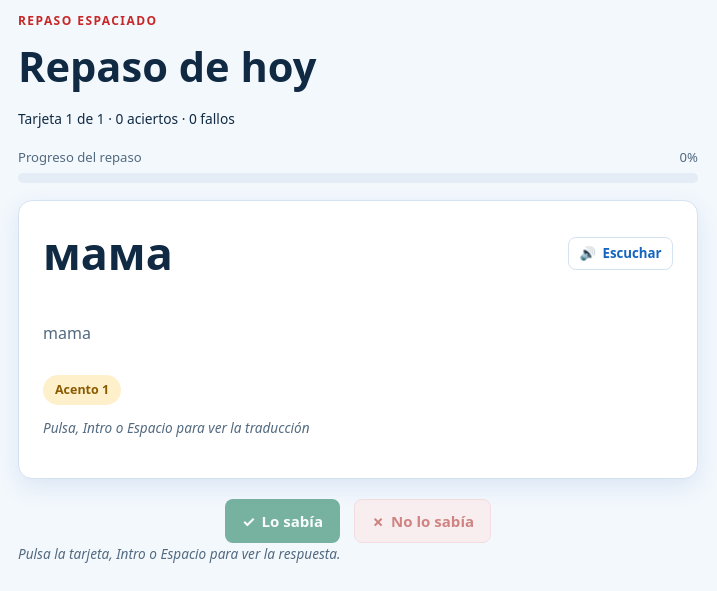
Scenario: Tarjeta de repaso › se voltea con el teclado y envía la respuesta a la API
Expected: the text "mamá" is not shown
Press Enter in the button with aria-label "tarjeta: мама", box [18,200,698,479]
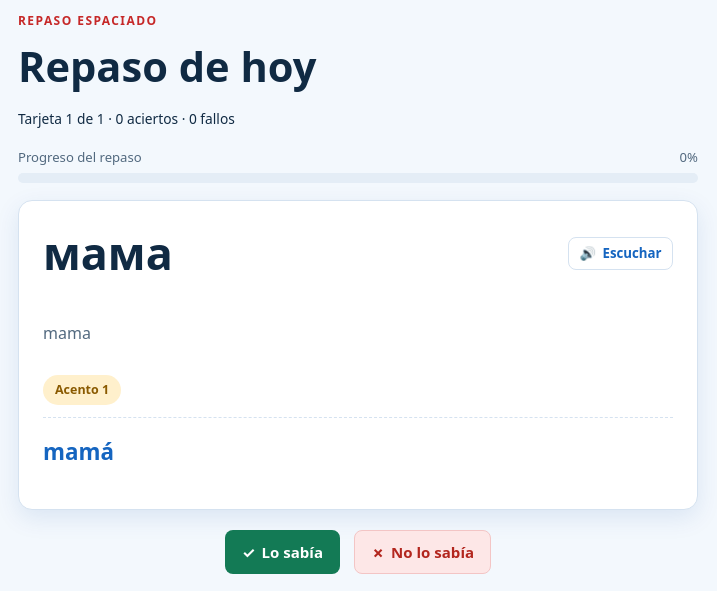
Expected: the text "mamá" is shown, [43,436,114,466]
Expected: the button with aria-label "Lo sabía: subir de caja" is enabled
Click the button with aria-label "Lo sabía: subir de caja".
click(282, 552)  # box [225,530,340,574]
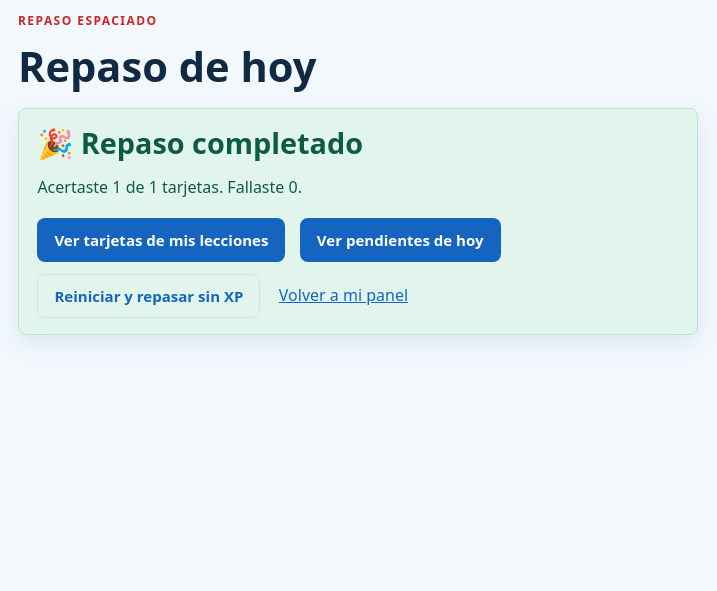
Expected: the heading "🎉 Repaso completado" is shown, [37,123,363,162]
